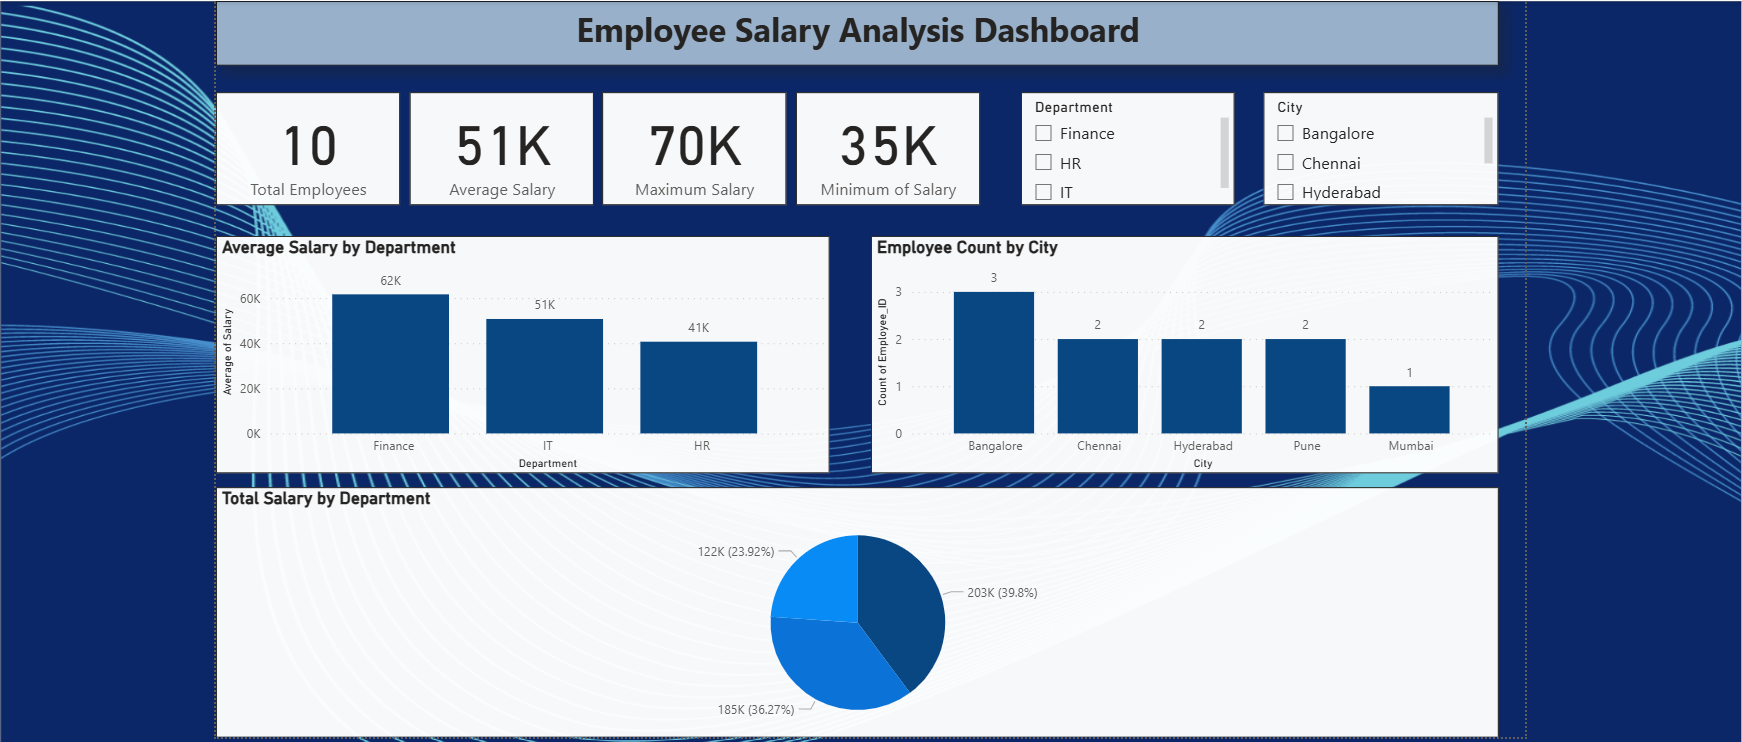

This screenshot's page, from the dashboard's own definition file:
{"tool":"powerbi","page":{"name":"Page 1","canvas":[1280,720],"ordinal":0},"visuals":[{"type":"textbox","box":[0,0,1254.2,63.6],"z":0},{"type":"card","fields":{"Values":["CountNonNull(Sheet1.Employee_ID)"]},"box":[0,89.2,179.7,110],"z":1000},{"type":"card","fields":{"Values":["Avg(Sheet1.Salary)"]},"box":[189.1,89.2,179.7,110],"z":2000},{"type":"card","fields":{"Values":["Max(Sheet1.Salary)"]},"box":[378.1,89.2,179.7,110],"z":3000},{"type":"card","fields":{"Values":["Min(Sheet1.Salary)"]},"box":[567.2,89.2,179.7,110],"z":4000},{"type":"clusteredColumnChart","title":"Average Salary by Department","fields":{"Category":["Sheet1.Department"],"Y":["Avg(Sheet1.Salary)"]},"box":[0,229.8,600.2,232.3],"z":5000},{"type":"clusteredColumnChart","title":"Employee Count by City","fields":{"Category":["Sheet1.City"],"Y":["CountNonNull(Sheet1.Employee_ID)"]},"box":[640.5,229.8,613.7,232.3],"z":6000},{"type":"pieChart","title":"Total Salary by Department","fields":{"Category":["Sheet1.Department"],"Y":["Sum(Sheet1.Salary)"]},"box":[0,475.5,1254.2,244.5],"z":7000},{"type":"slicer","fields":{"Values":["Sheet1.Department"]},"box":[787.2,89.2,209,110],"z":8000},{"type":"slicer","fields":{"Values":["Sheet1.City"]},"box":[1024.4,89.2,229.8,110],"z":9000}]}

Visuals, with their boxes in screenshot pixels (x1, y1, x2, y2):
textbox: detection(213, 0, 1491, 65)
card - CountNonNull(Sheet1.Employee_ID): detection(213, 91, 396, 203)
card - Avg(Sheet1.Salary): detection(406, 91, 589, 203)
card - Max(Sheet1.Salary): detection(599, 91, 782, 203)
card - Min(Sheet1.Salary): detection(791, 91, 974, 203)
"Average Salary by Department" clusteredColumnChart: detection(213, 234, 825, 471)
"Employee Count by City" clusteredColumnChart: detection(866, 234, 1491, 471)
"Total Salary by Department" pieChart: detection(213, 485, 1491, 734)
slicer - Sheet1.Department: detection(1015, 91, 1228, 203)
slicer - Sheet1.City: detection(1257, 91, 1491, 203)
